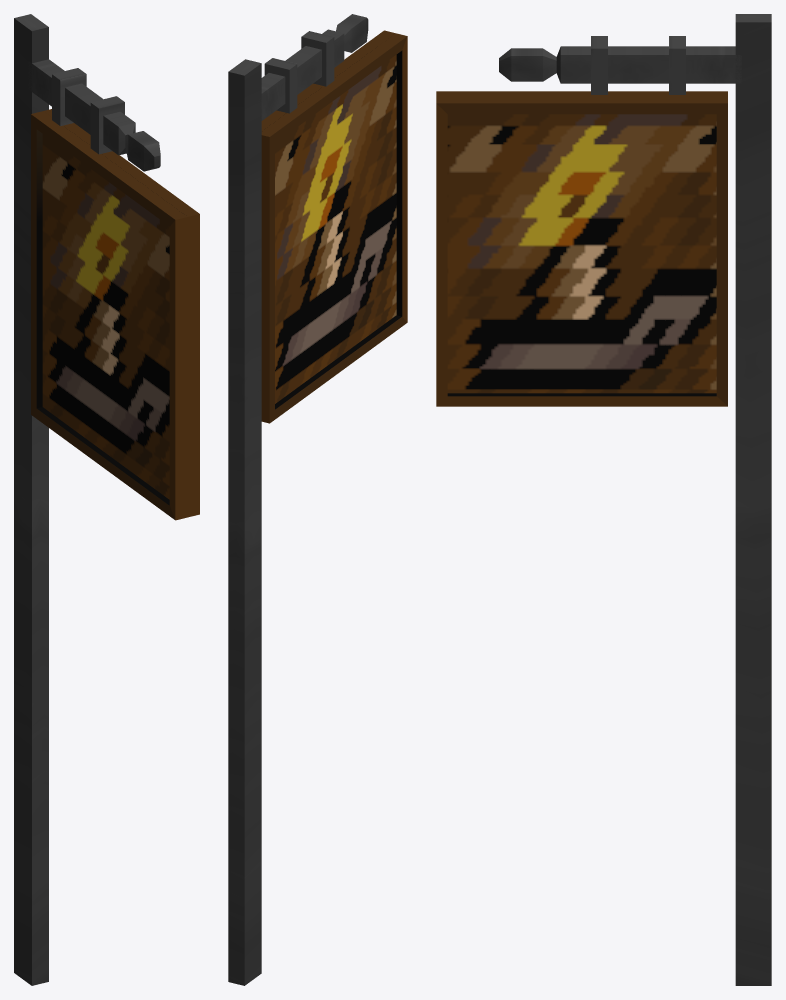
Rendered from sign_361x04.obj.
3 views of the same model, side by side, from view 1: azimuth 30°, elevation 25°; view 2: azimuth 150°, elevation 25°; view 3: azimuth 270°, elevation 25° (orthographic). The views are drawn at different scales.
Visible parts, largest first — view 1: Sign_361x4; view 2: Sign_361x4; view 3: Sign_361x4.
Boxes of the visible parts, <box> form: Sign_361x4: <box>14,14,199,985</box>; Sign_361x4: <box>228,14,407,985</box>; Sign_361x4: <box>436,14,771,985</box>.
Bounding box in the file's own units: 0.1154 × 3.99 × 1.26.
